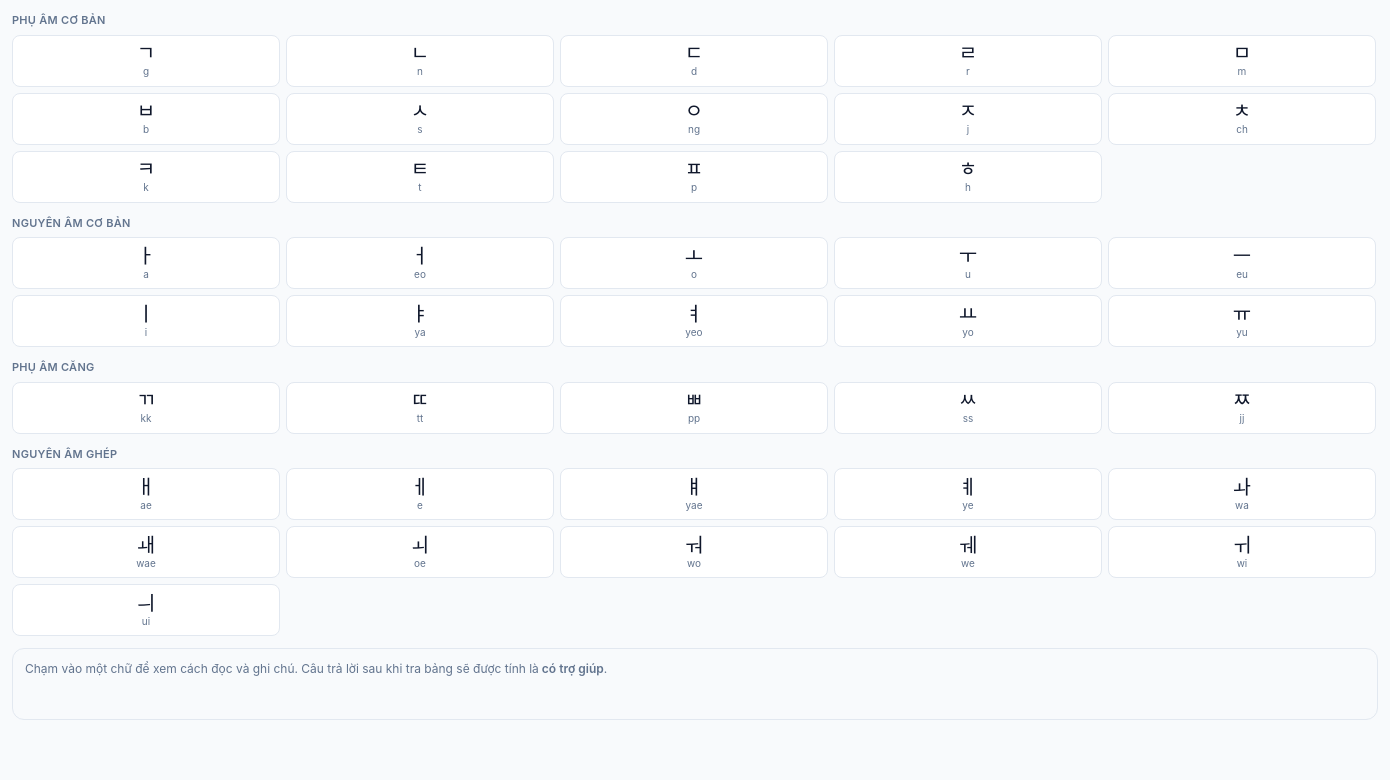
it: HangulChart › shows the romaja and explanation of the selected character
Expected: the text "Đứng đầu âm tiết" is not shown
Click the button with aria-label "ㅇ, đọc là ng" at (694, 118), box [560,92,828,144]
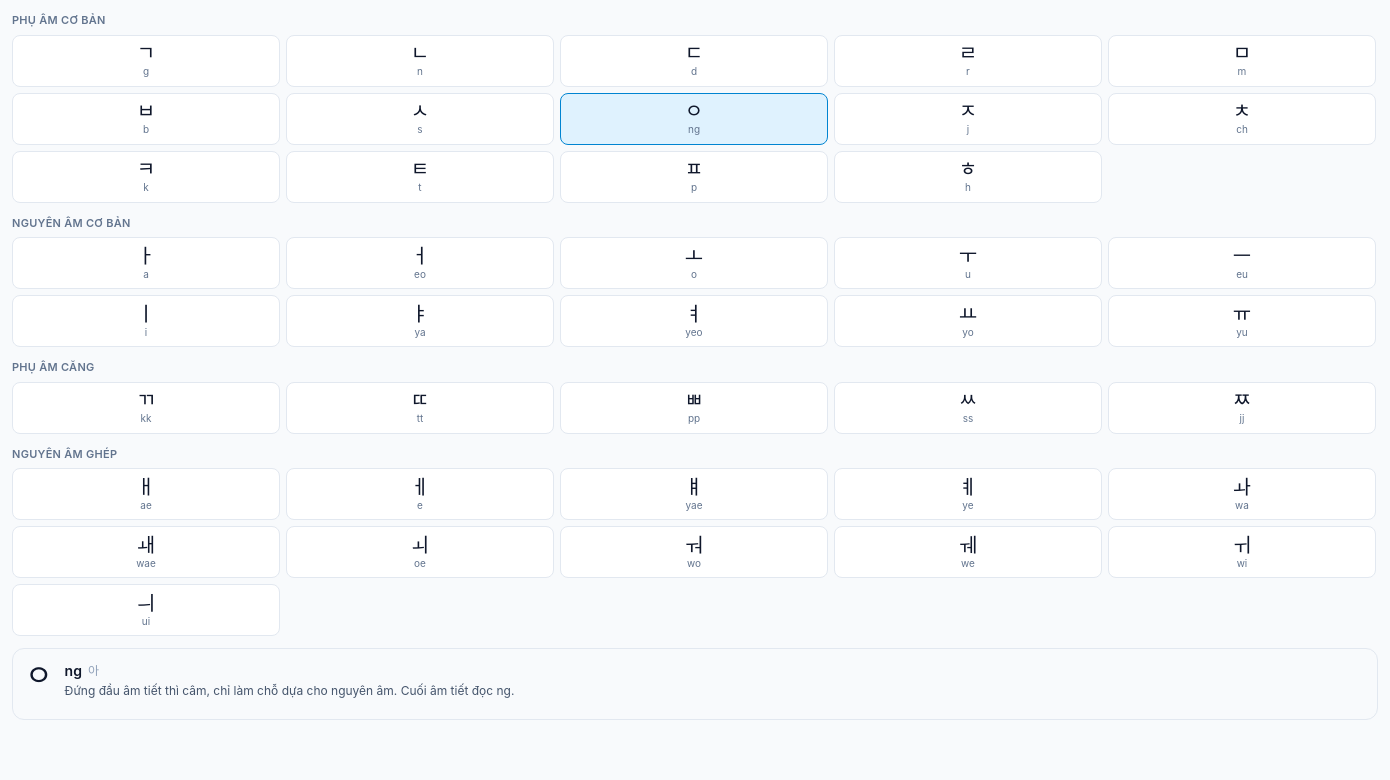
Result: the text "Đứng đầu âm tiết thì câm" is shown at [65,683,514,698]
